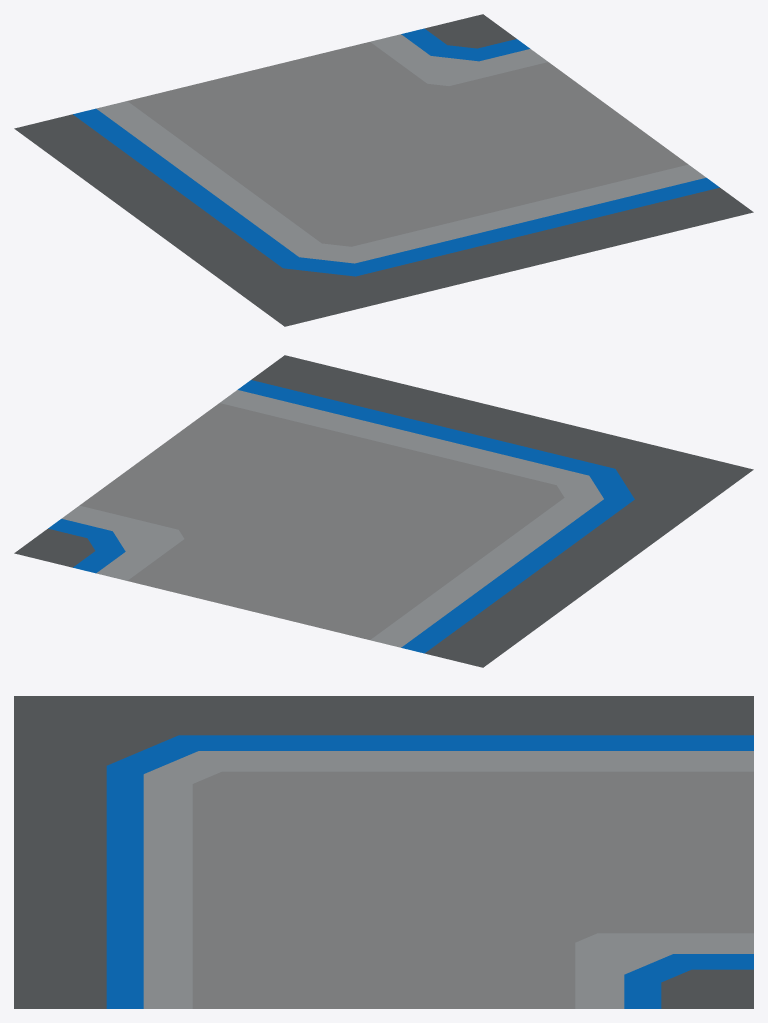
File: Ceiling_type_B_048.fbx
3 renders of one model, top to bottom at view 1: azimuth 30°, elevation 25°; view 2: azimuth 150°, elevation 25°; view 3: azimuth 270°, elevation 25°, orthographic. The views are drawn at different scales.
Parts seen in each view (by area): view 1: Ceiling_type_B_048; view 2: Ceiling_type_B_048; view 3: Ceiling_type_B_048.
Part boxes in pixels (x1=…): Ceiling_type_B_048: x1=14, y1=14, x2=753, y2=326; Ceiling_type_B_048: x1=14, y1=355, x2=753, y2=667; Ceiling_type_B_048: x1=14, y1=696, x2=753, y2=1008.
Size of the model in its own units: 400 by 400 by 3.5.
